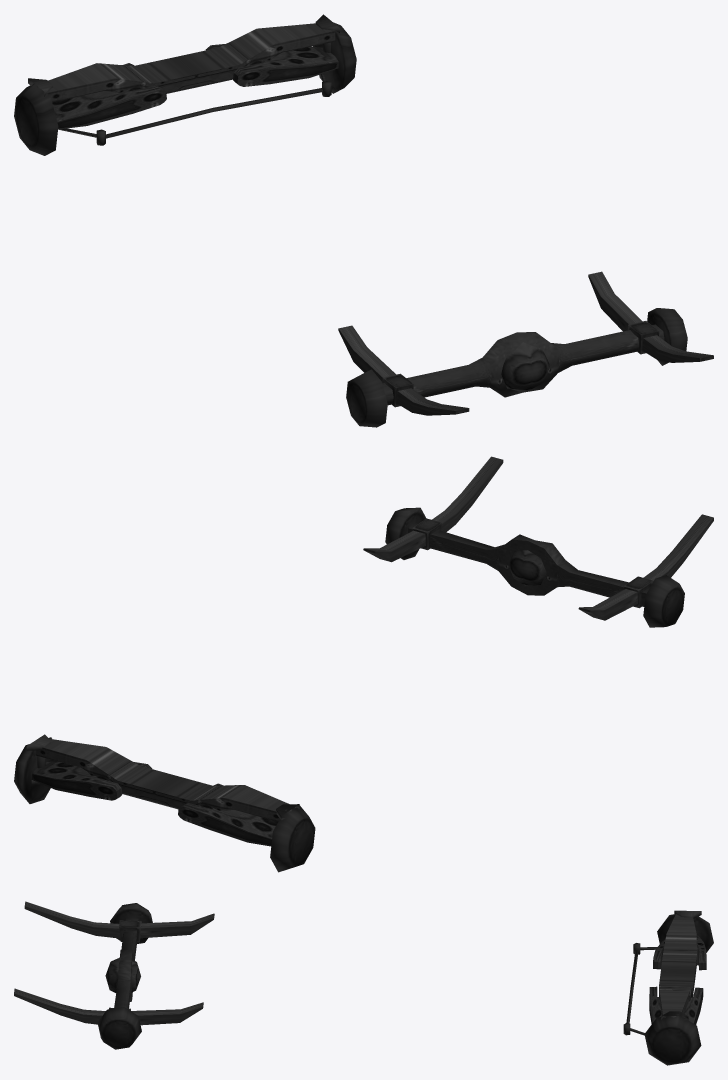
Rendered from shvan92_suspension_ucb_bottom_0.002_lev3.glb.
The picture shows the model from 3 angles, top to bottom: view 1: azimuth 30°, elevation 25°; view 2: azimuth 150°, elevation 25°; view 3: azimuth 270°, elevation 25°; orthographic projection. The views are drawn at different scales.
Visible parts, largest first — view 1: shvan92_suspension_ucb_bottom_0.002_lev3; view 2: shvan92_suspension_ucb_bottom_0.002_lev3; view 3: shvan92_suspension_ucb_bottom_0.002_lev3.
Part boxes in pixels (x1,y1,x2,y2): shvan92_suspension_ucb_bottom_0.002_lev3: [14, 14, 713, 427]; shvan92_suspension_ucb_bottom_0.002_lev3: [14, 456, 713, 872]; shvan92_suspension_ucb_bottom_0.002_lev3: [14, 901, 713, 1065].
Size of the model in its own units: 1.7 by 0.3274 by 3.95.
Materials: 1 (1 with a texture image).
